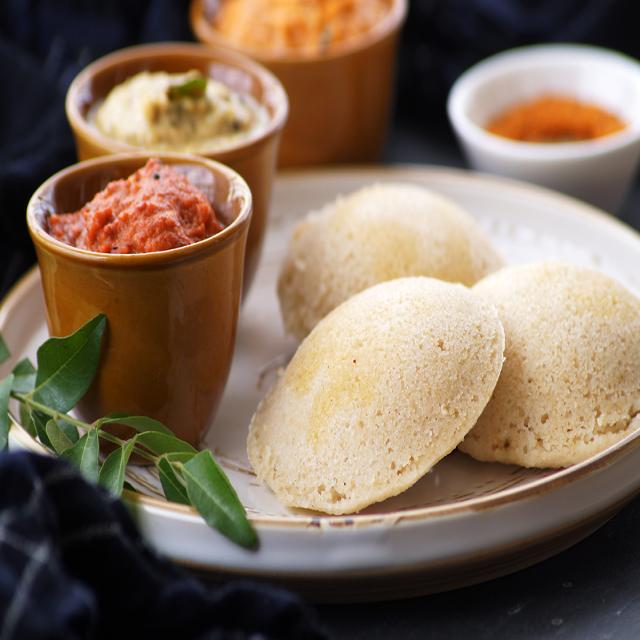chutney: (104, 68, 247, 140)
idli: (246, 271, 502, 500), (436, 258, 640, 457), (277, 182, 510, 354)
